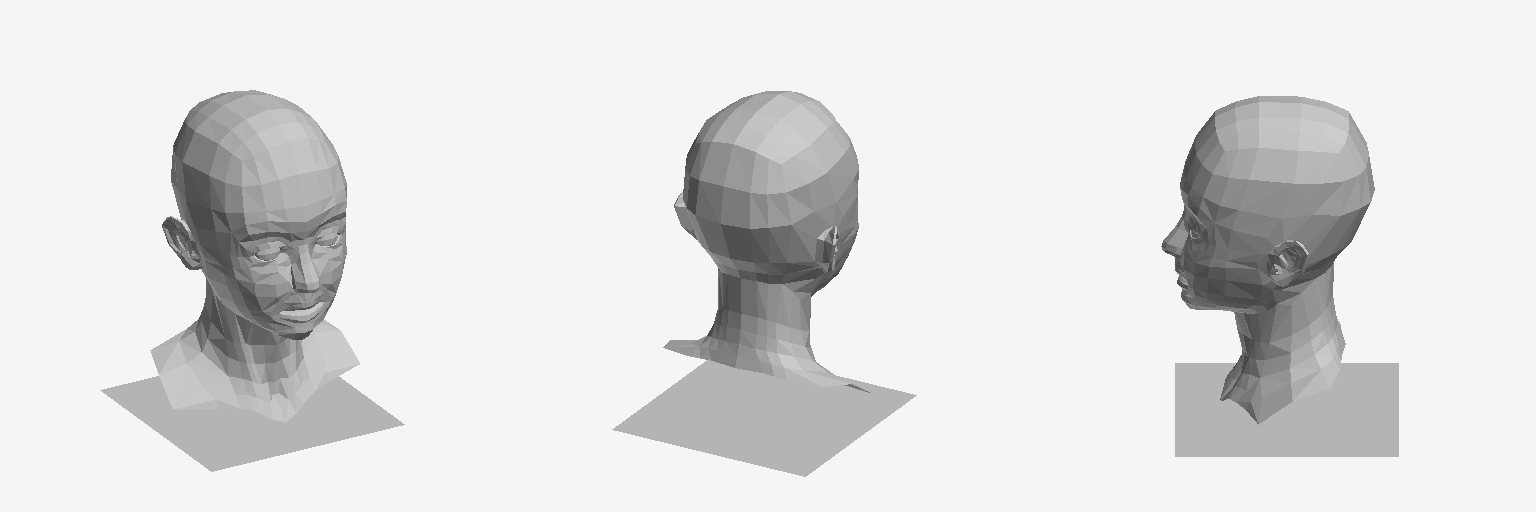
Rendered from head.obj.
3 renders of one model, left to right at view 1: azimuth 30°, elevation 25°; view 2: azimuth 150°, elevation 25°; view 3: azimuth 270°, elevation 25°, orthographic.
Visible parts, largest first — view 1: Object_0; view 2: Object_0; view 3: Object_0.
Part boxes in pixels (x1,y1,x2,y2): Object_0: (100, 90, 404, 471); Object_0: (612, 91, 916, 476); Object_0: (1161, 96, 1398, 456).
Bounding box in the file's own units: 2 × 3.04 × 2.12.